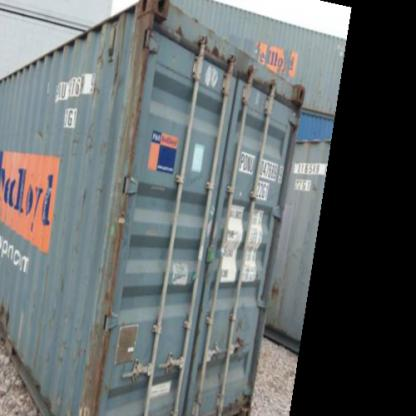Damage: (52, 324, 96, 381), (92, 27, 127, 94), (53, 128, 108, 163), (69, 180, 91, 224), (226, 314, 251, 352), (0, 298, 17, 338), (26, 116, 53, 141), (54, 267, 72, 302), (166, 20, 192, 38), (206, 39, 221, 63), (243, 61, 254, 84)
